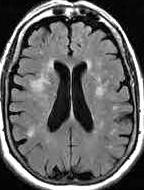Normal_Brain: (1, 1, 144, 190)
